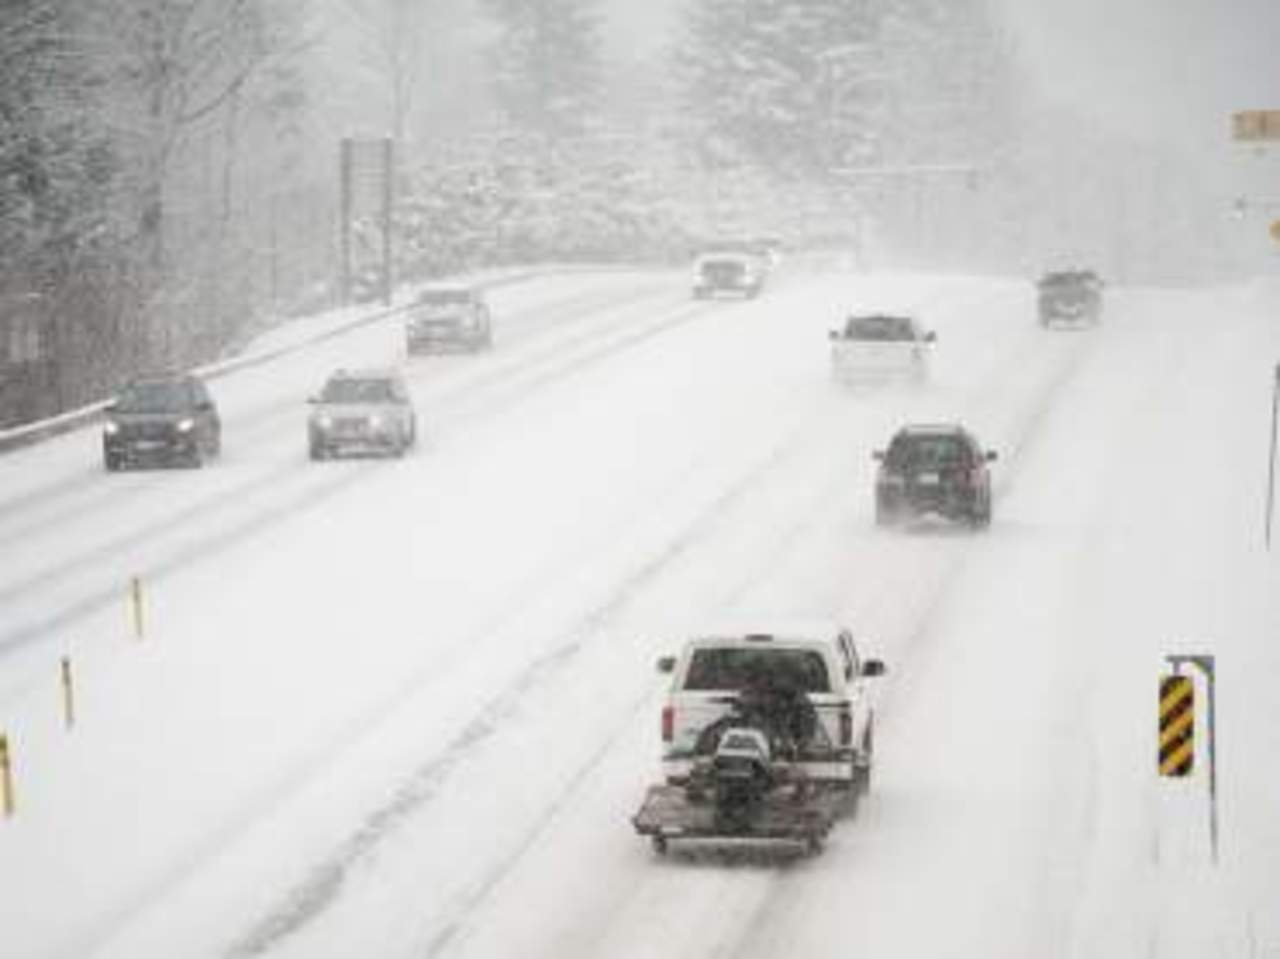car: (638, 628, 883, 857), (876, 421, 996, 532), (100, 373, 222, 473), (307, 371, 416, 462), (826, 311, 937, 385), (407, 284, 490, 355), (1033, 271, 1107, 334), (691, 249, 771, 302)
